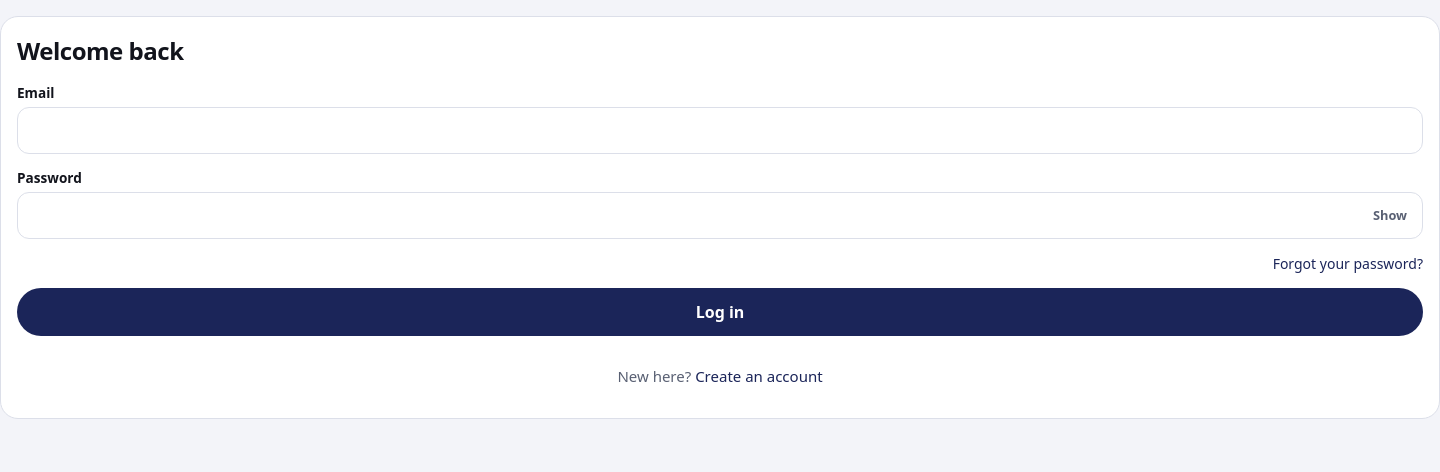
Test: AuthForm in log-in mode › rejects an email address that is not valid
Step 1. Type "sam@example" into the field labelled "Email" → (720, 131), box x1=17 y1=107 x2=1423 y2=154
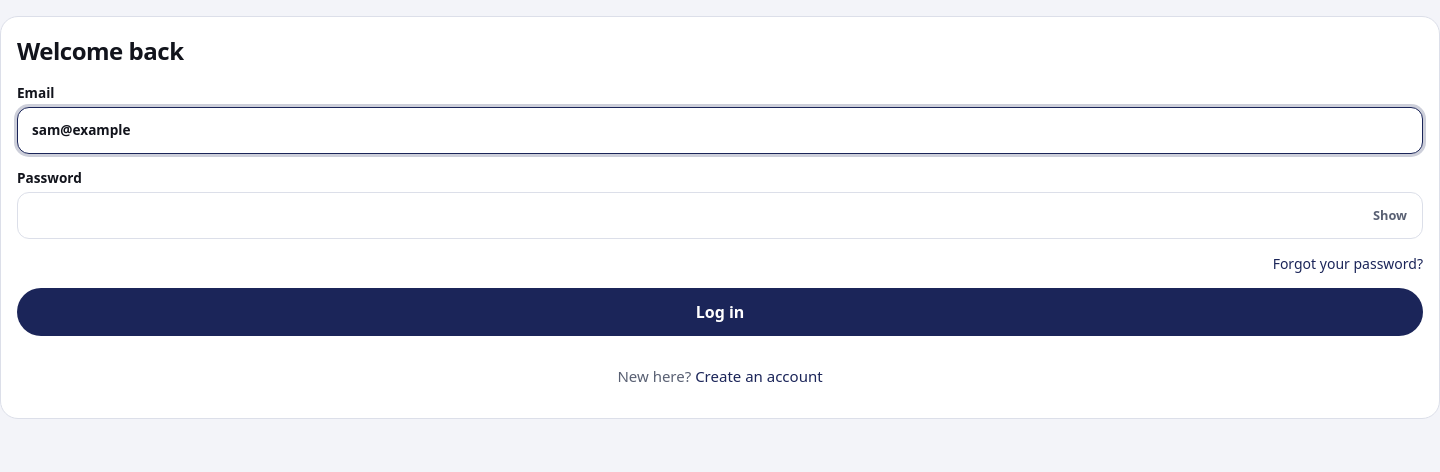
Step 2. Type "whatever1" into the password field labelled "Password Show" → (720, 215), box x1=17 y1=192 x2=1423 y2=239
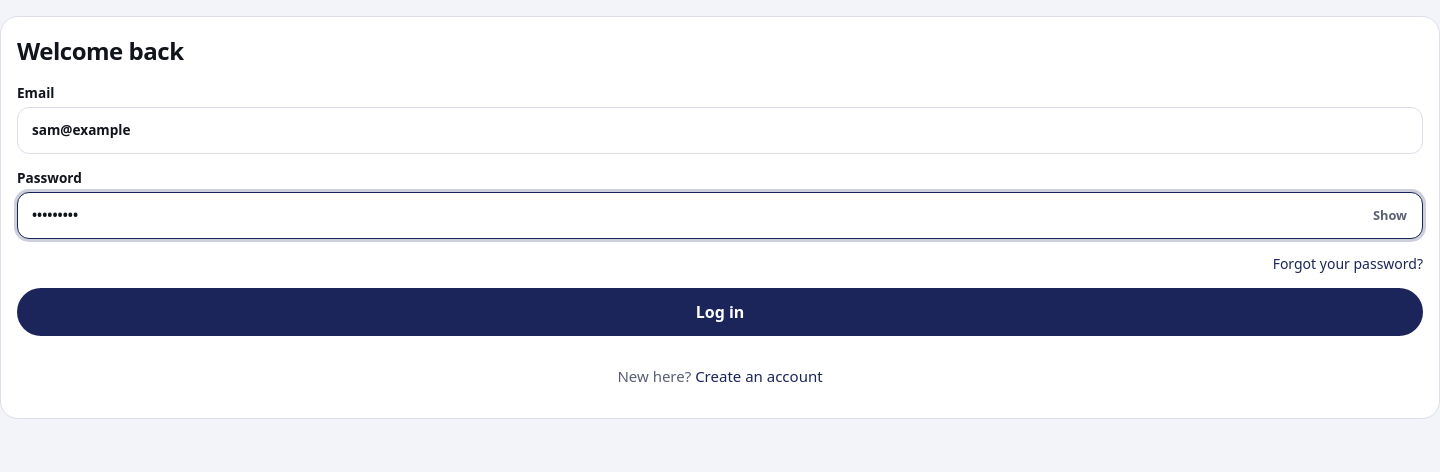
Step 3. Click the button "Log in" → (720, 312), box x1=17 y1=288 x2=1423 y2=336
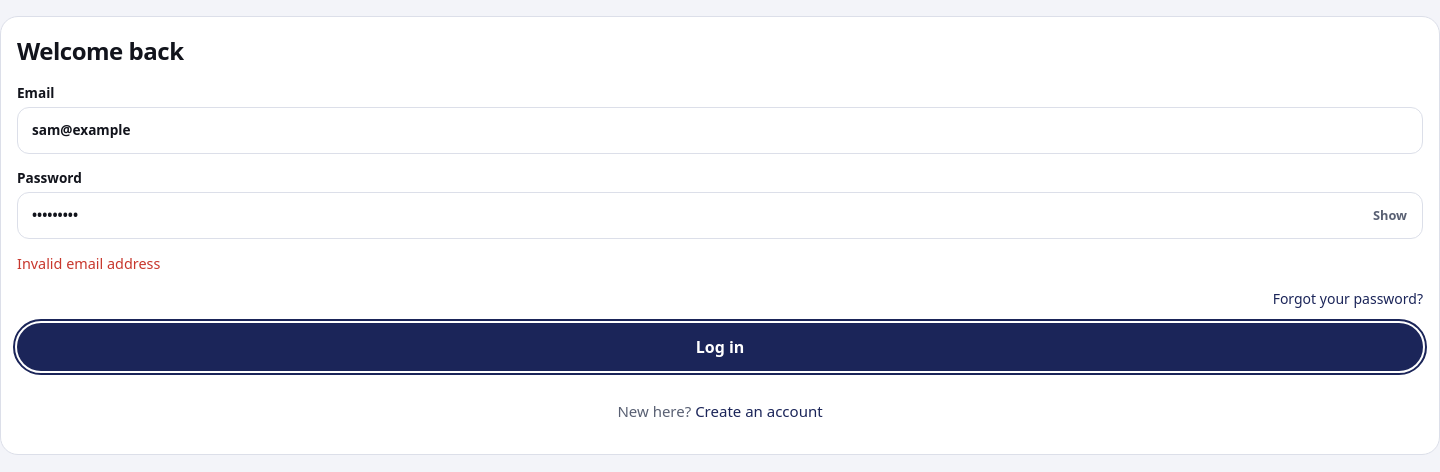
Expected: the message shows "email", x1=17 y1=254 x2=160 y2=273
